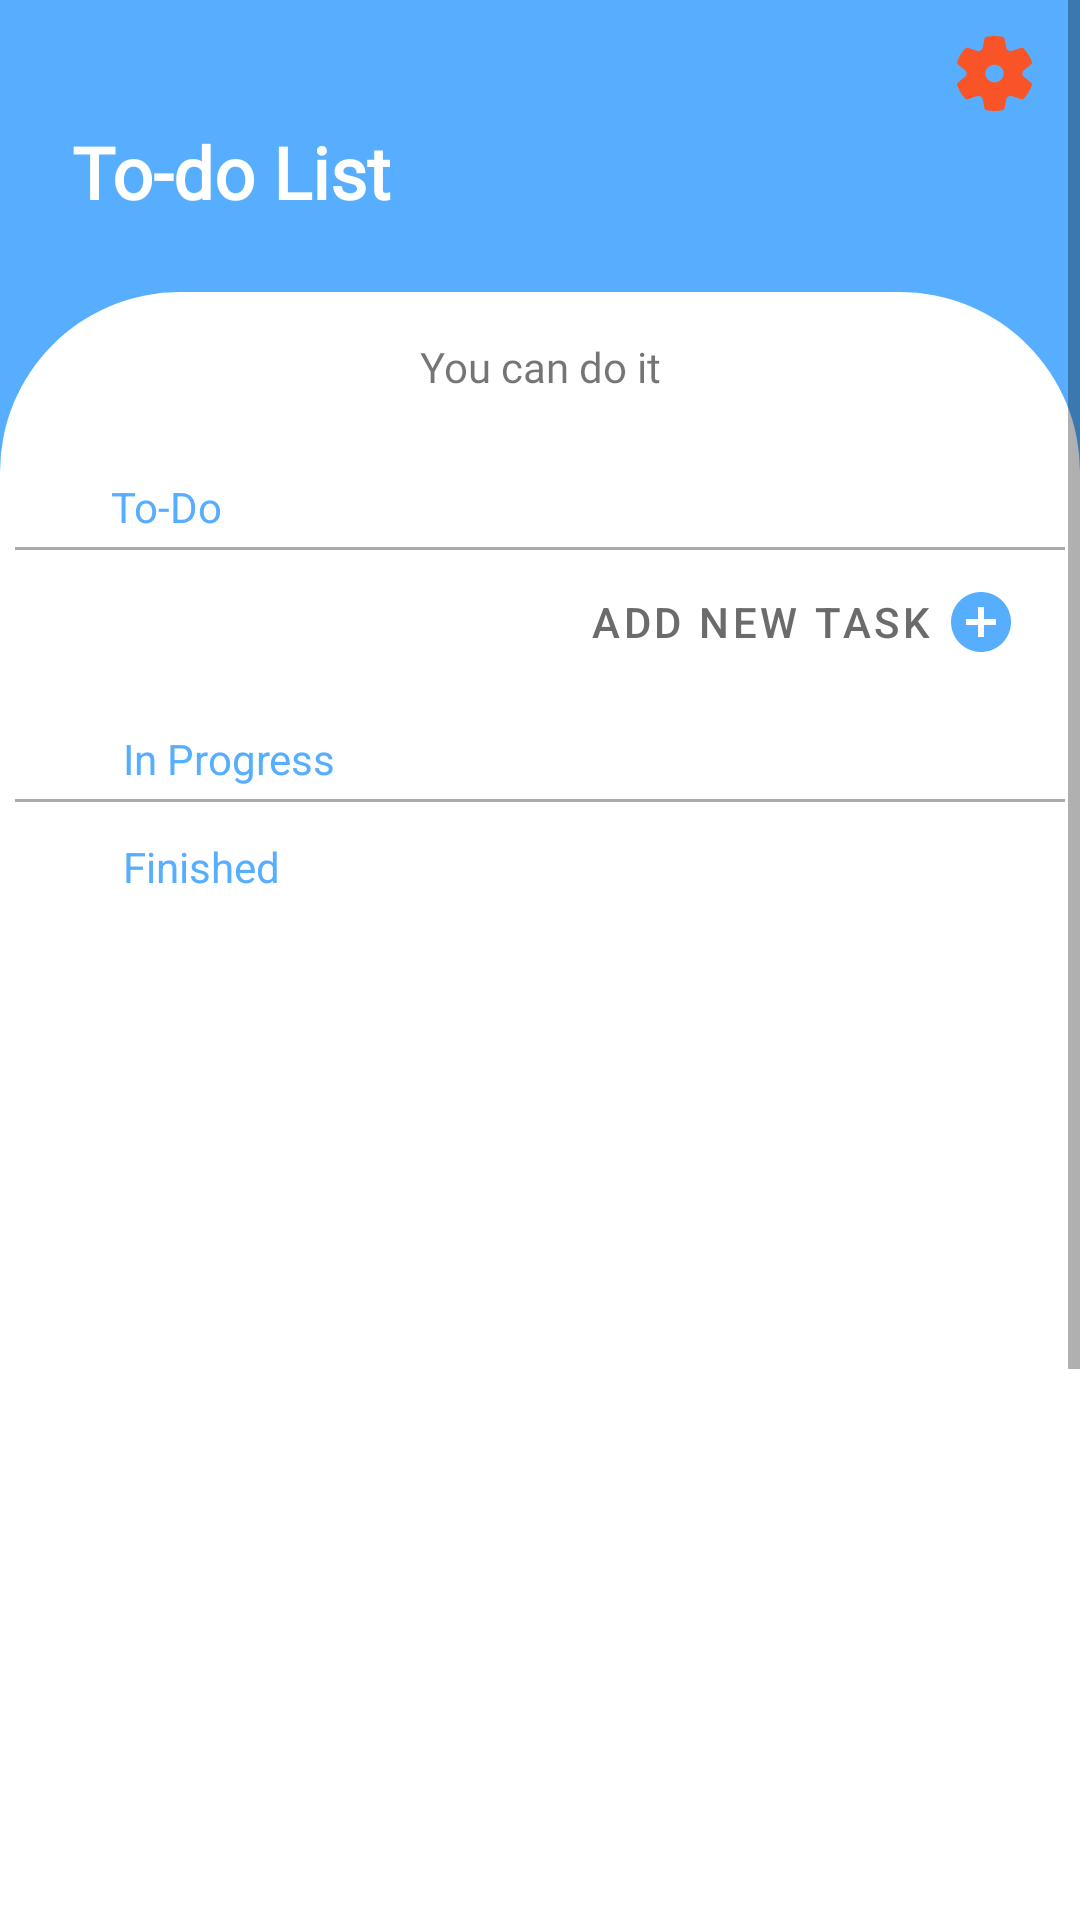

Icons on this 1080*1920 Android screen, each with the point to tap as point (x, y):
settings: point (994, 73)
